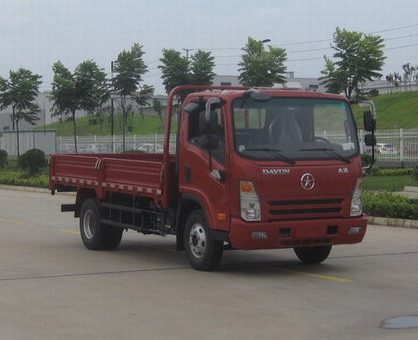smalltruck: (33, 65, 390, 278)
